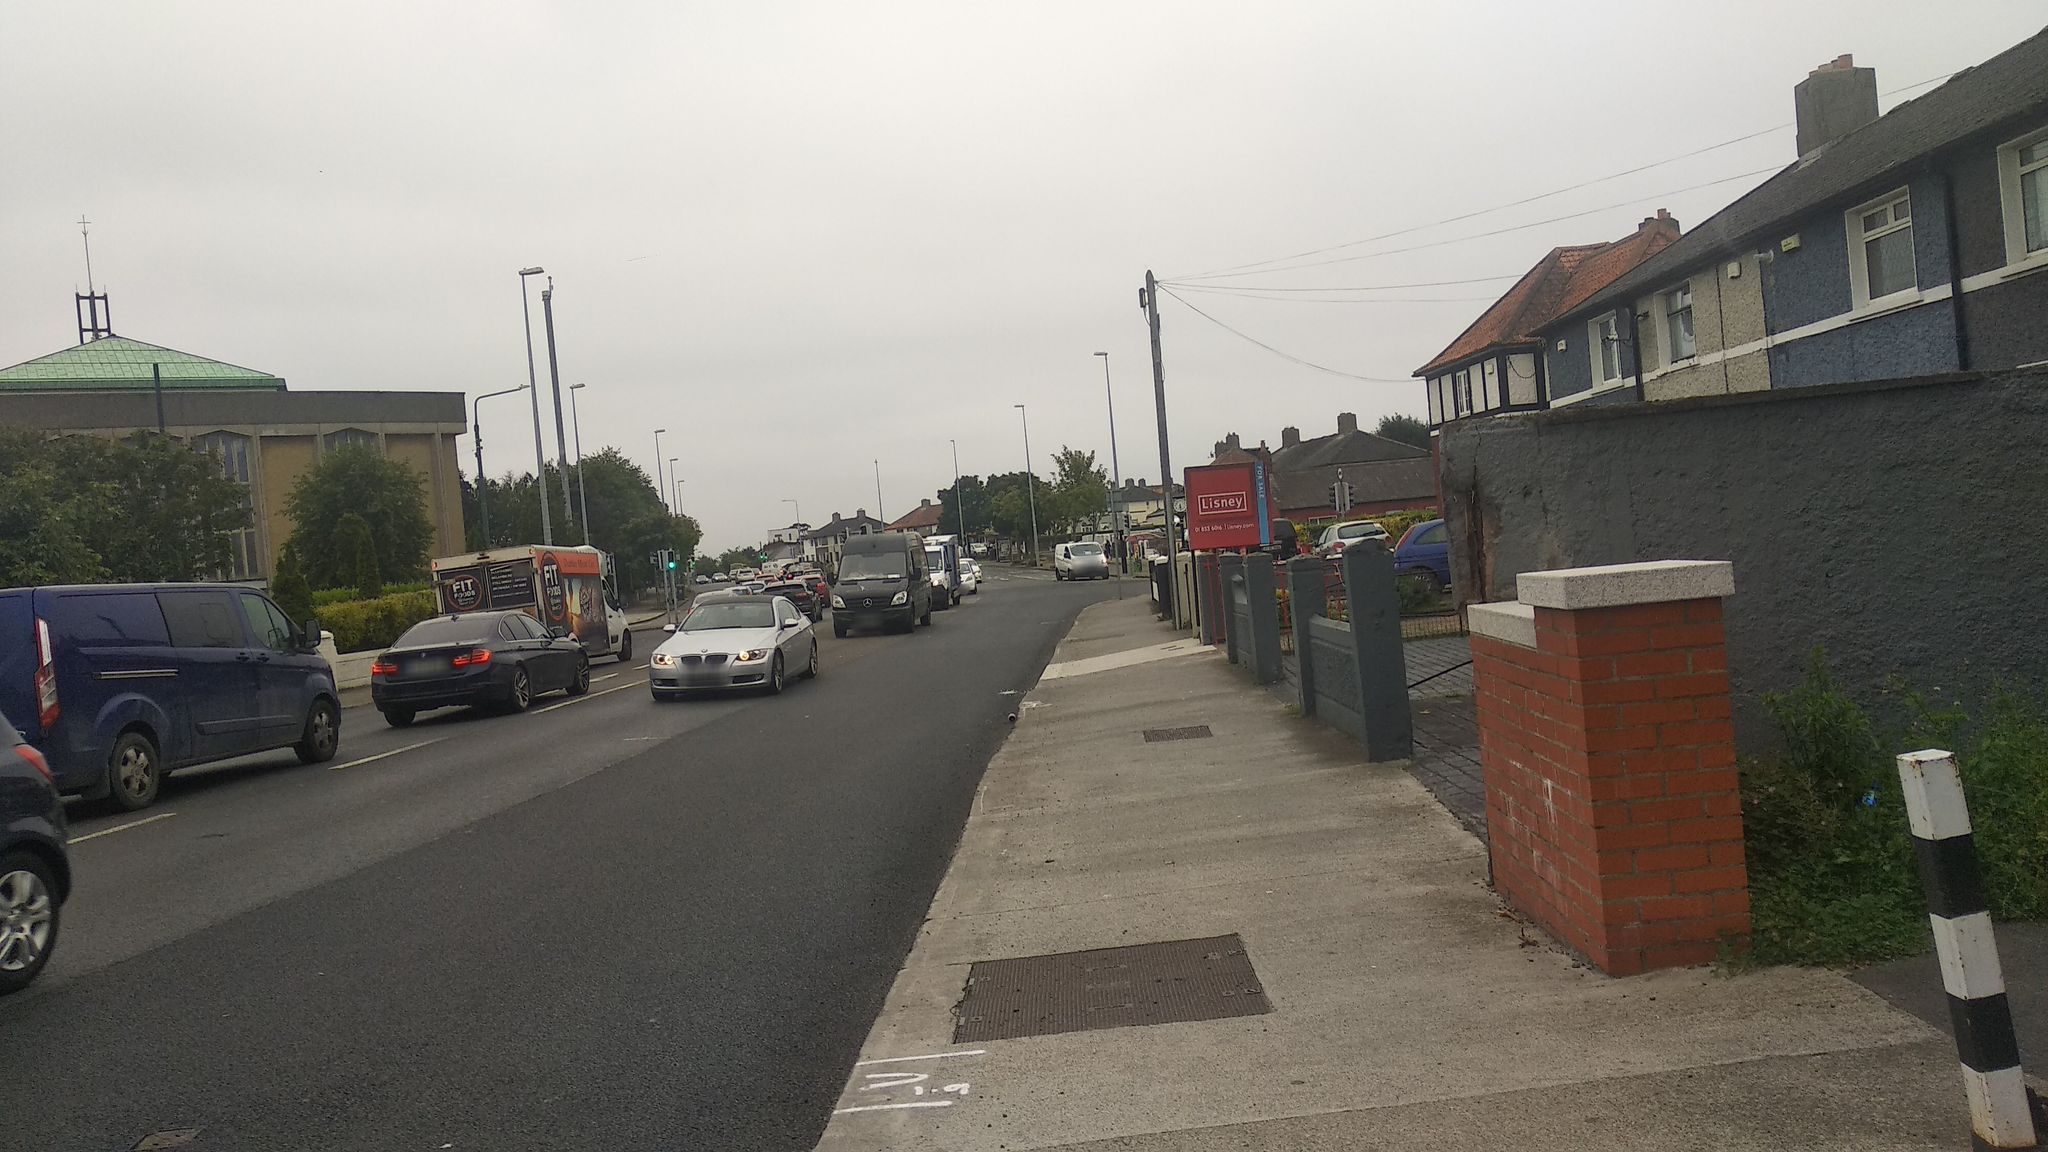property sign: (1167, 443, 1280, 564)
